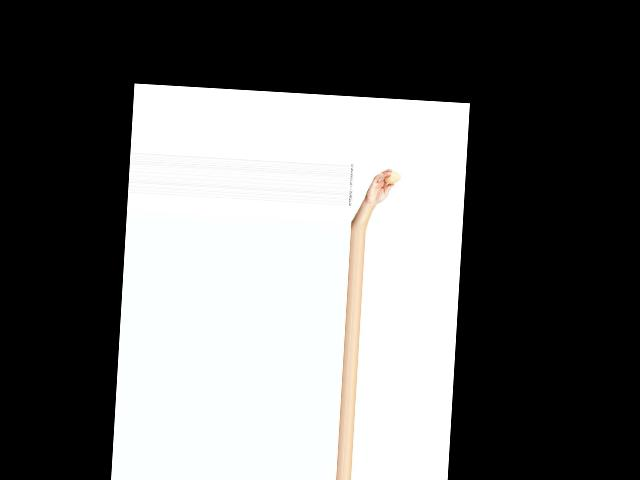egg: (383, 171, 401, 184)
